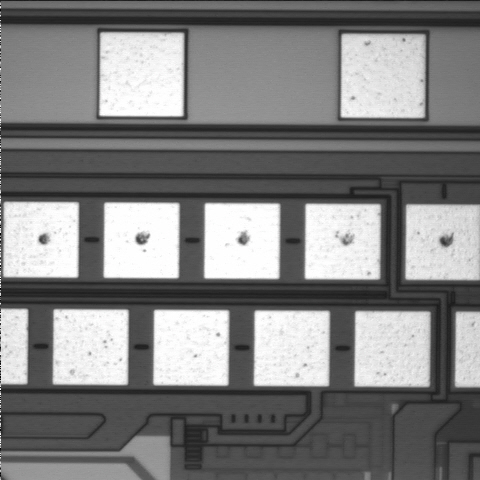pad: (99, 33, 184, 117), (341, 34, 425, 118), (3, 202, 79, 278), (204, 203, 280, 279), (53, 309, 129, 385), (153, 310, 229, 386), (254, 310, 330, 386), (354, 311, 430, 387), (104, 202, 179, 278), (305, 204, 381, 279)
